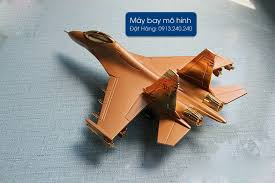maybay_muctieu: (63, 26, 245, 146)
